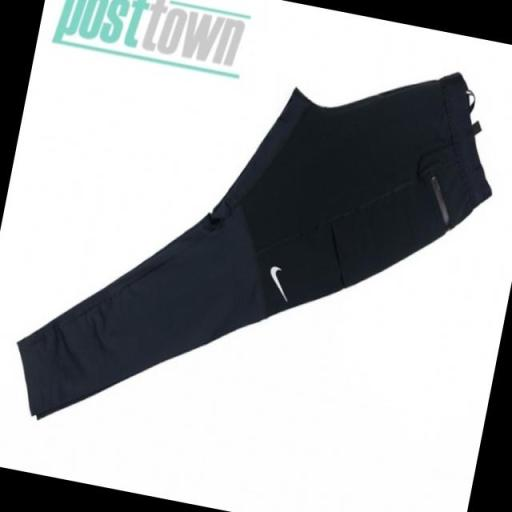Nike: (256, 259, 304, 314)
